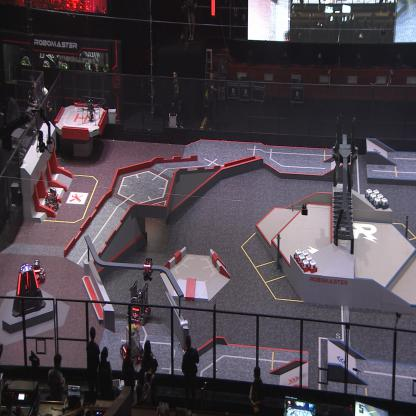car: (126, 280, 153, 324), (120, 322, 144, 365), (31, 257, 46, 283), (44, 188, 59, 211)
